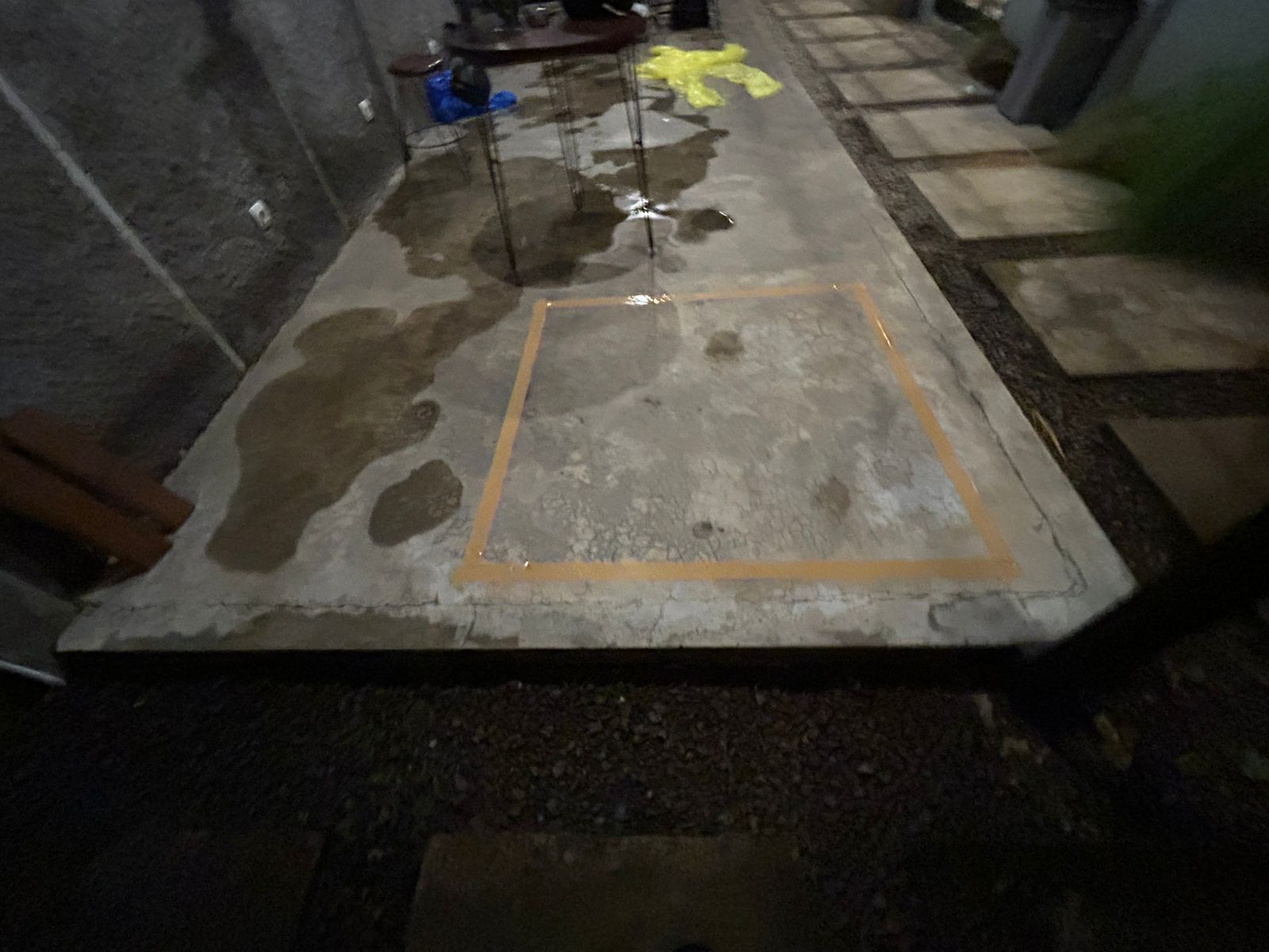floor marking: (452, 282, 1020, 584)
